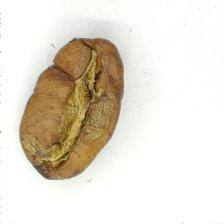NG: (30, 48, 109, 179)
